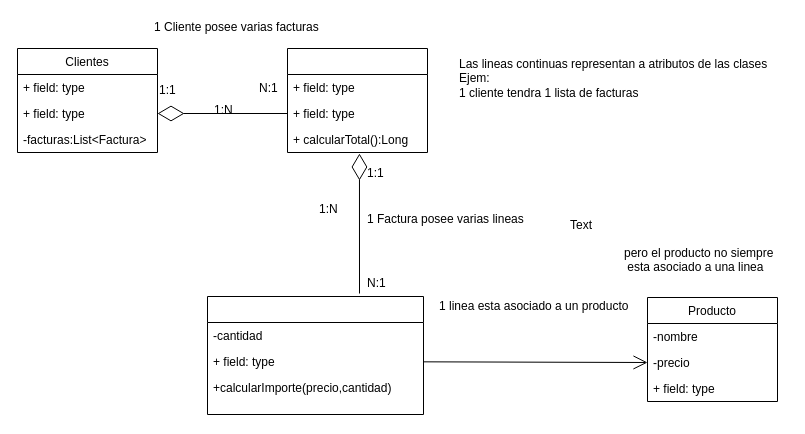
Image size: 805x434. Some labels were removed from this diagram. Each missing label, with the box of its shape:
Facturas: (286, 48, 428, 152)
Lineas Facturas: (206, 296, 424, 414)
